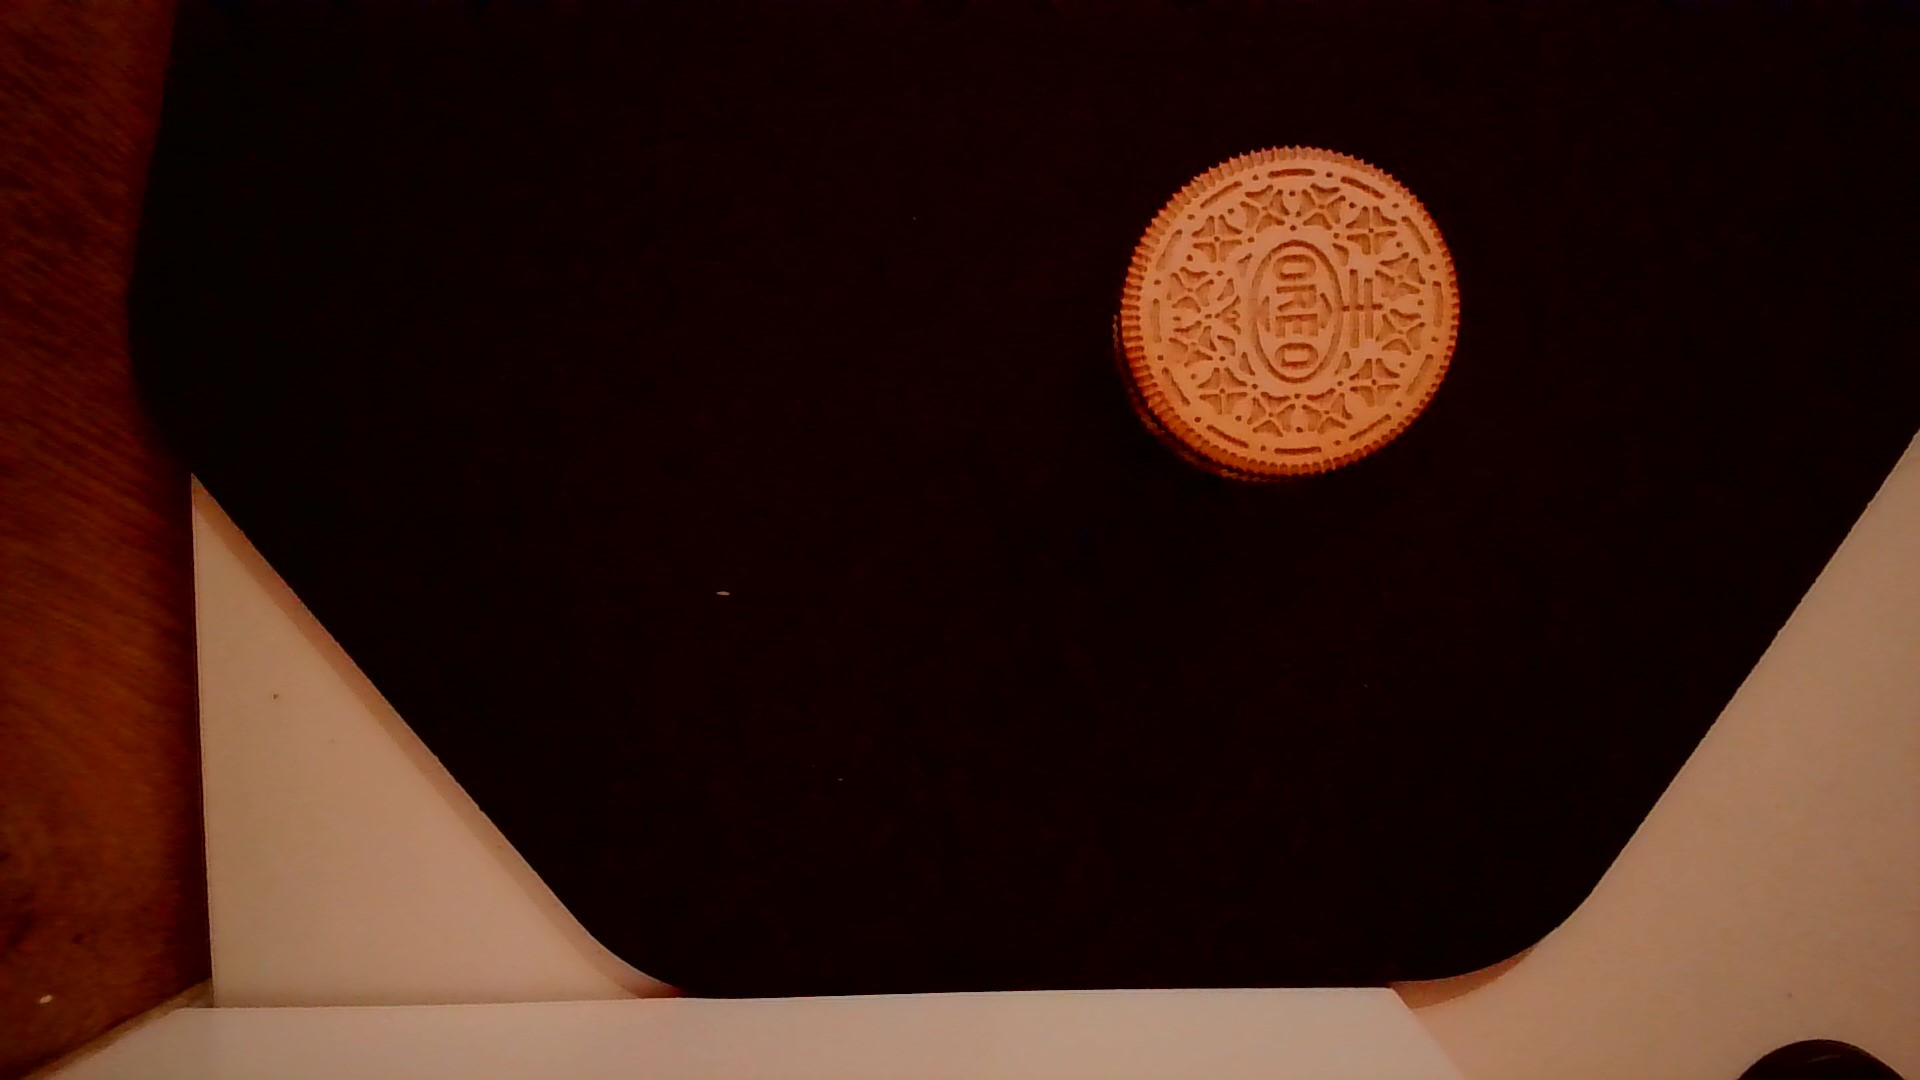Oréo: (1102, 133, 1464, 489)
